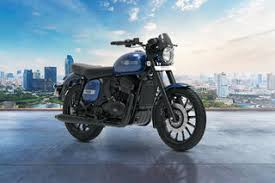motorcycle: (54, 35, 209, 149)
